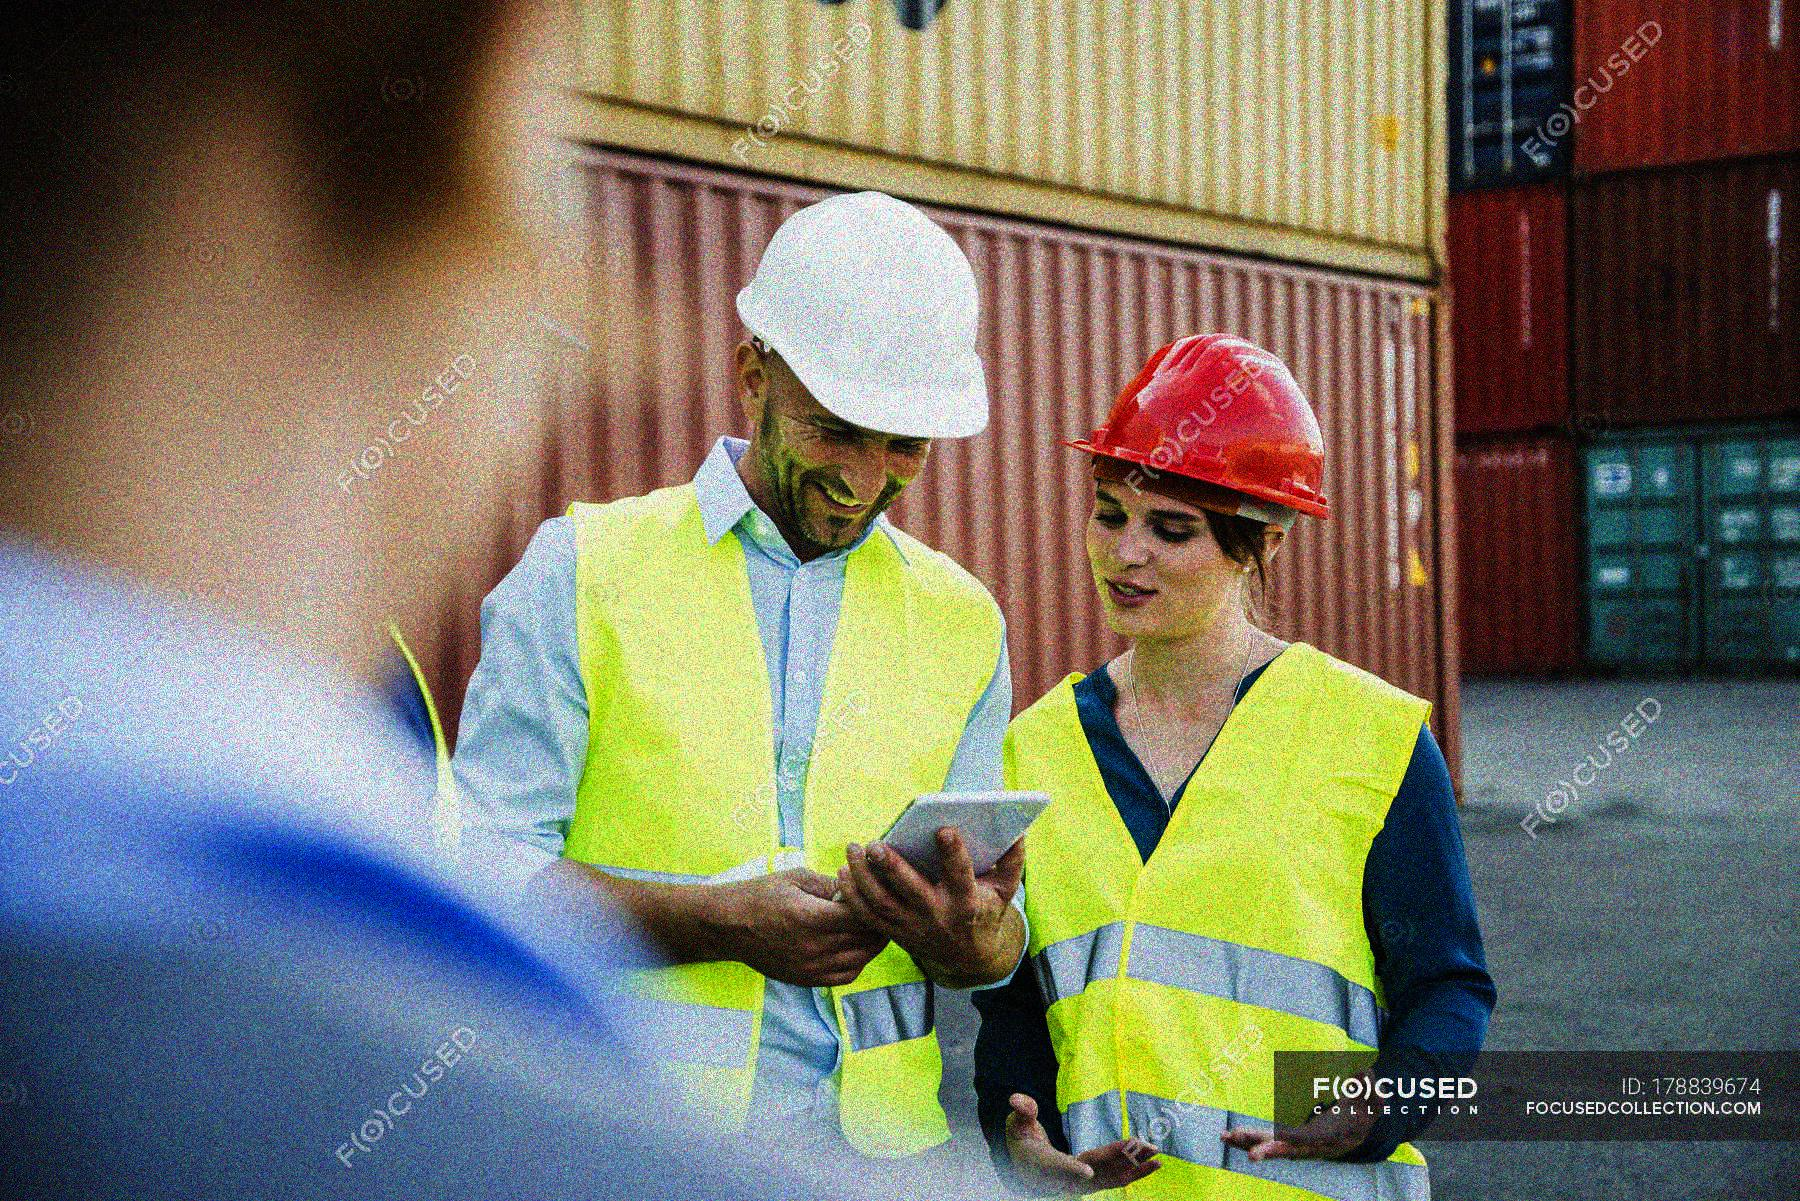helmet: (730, 186, 1001, 552), (1062, 330, 1336, 634)
